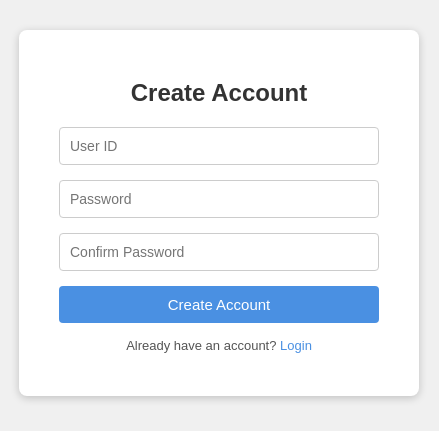
Test: CreateAccount Component › validates required fields and password mismatch
Click the button "Create Account". click: (219, 305)
box: [59, 286, 379, 324]
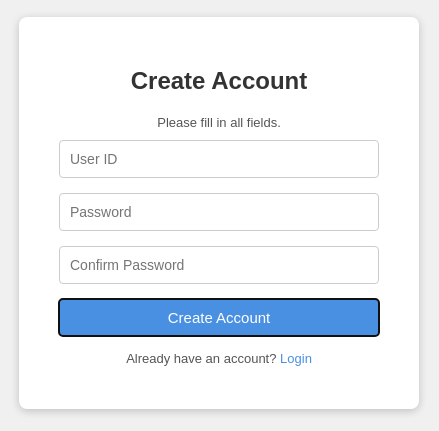
Now the text "Please fill in all fields." is shown, box [157, 115, 281, 130]
Type "alice" into the field with placeholder "User ID". click: (219, 159)
box: [59, 140, 379, 178]
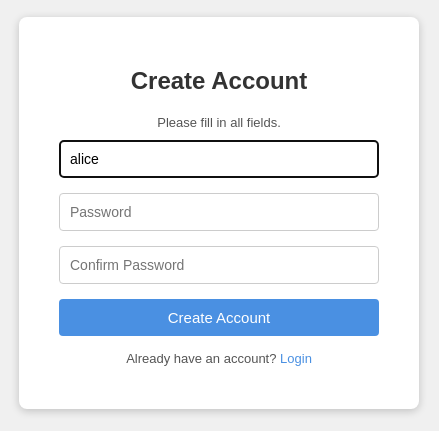
Type "pass123" into the password field with placeholder "Password". click: (219, 212)
box: [59, 193, 379, 231]
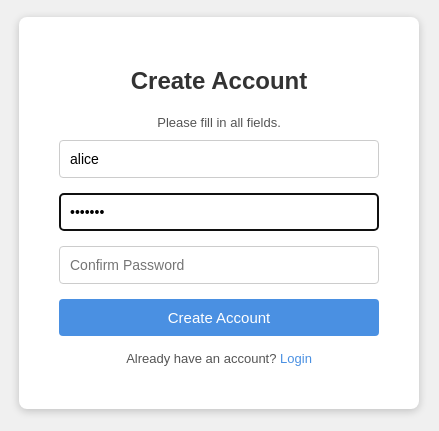
Type "different" into the password field with placeholder "Confirm Password". click: (219, 265)
box: [59, 246, 379, 284]
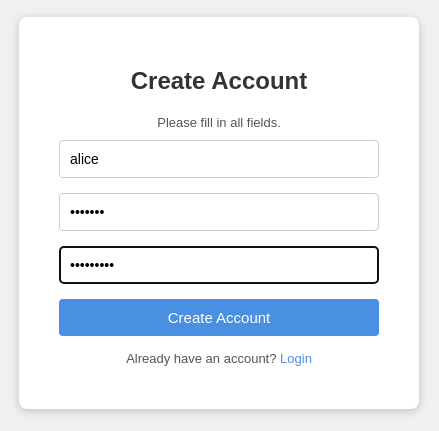
Click the button "Create Account". click: (219, 318)
box: [59, 299, 379, 336]
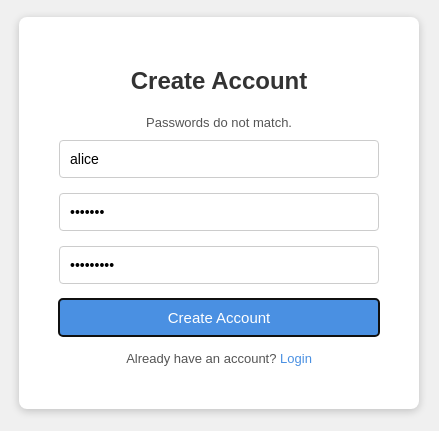
Now the text "Passwords do not match." is shown, box [146, 115, 292, 130]
